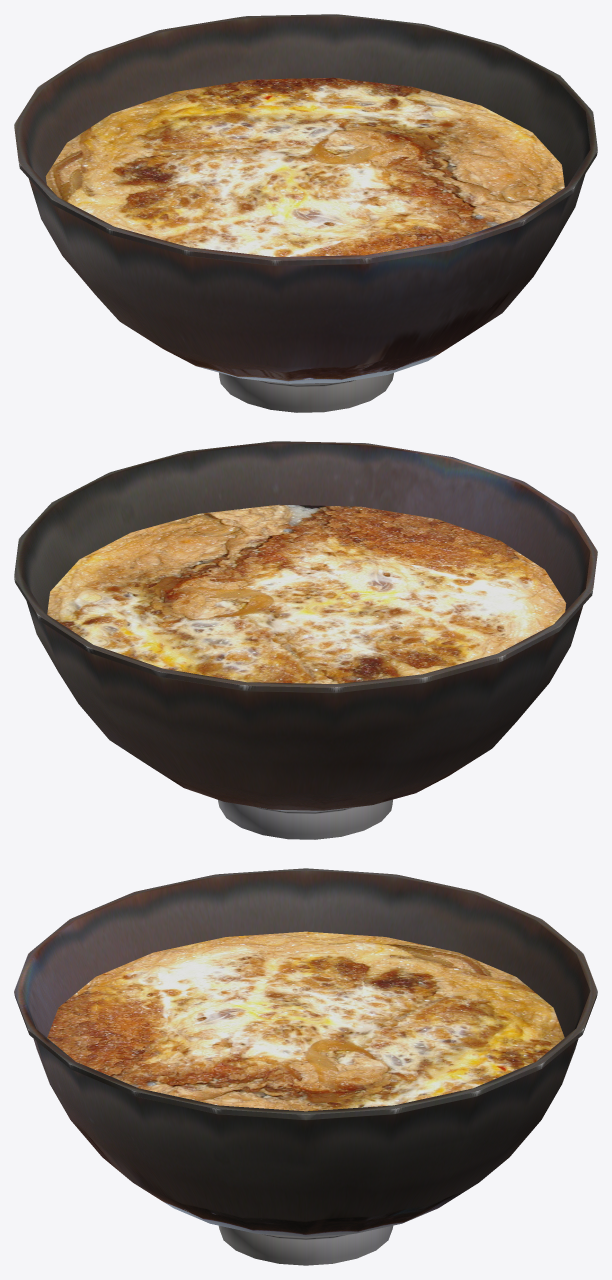
Rendered from donburi_katsu.fbx.
3 renders of one model, top to bottom at view 1: azimuth 30°, elevation 25°; view 2: azimuth 150°, elevation 25°; view 3: azimuth 270°, elevation 25°, orthographic.
Parts seen in each view (by area): view 1: donburi_katsu; view 2: donburi_katsu; view 3: donburi_katsu.
Part boxes in pixels (x1,y1,x2,y2): donburi_katsu: (14, 14, 597, 412); donburi_katsu: (14, 441, 597, 839); donburi_katsu: (14, 868, 597, 1265).
Size of the model in its own units: 12.99 by 5.84 by 12.99.
2 materials, 2 textured.
